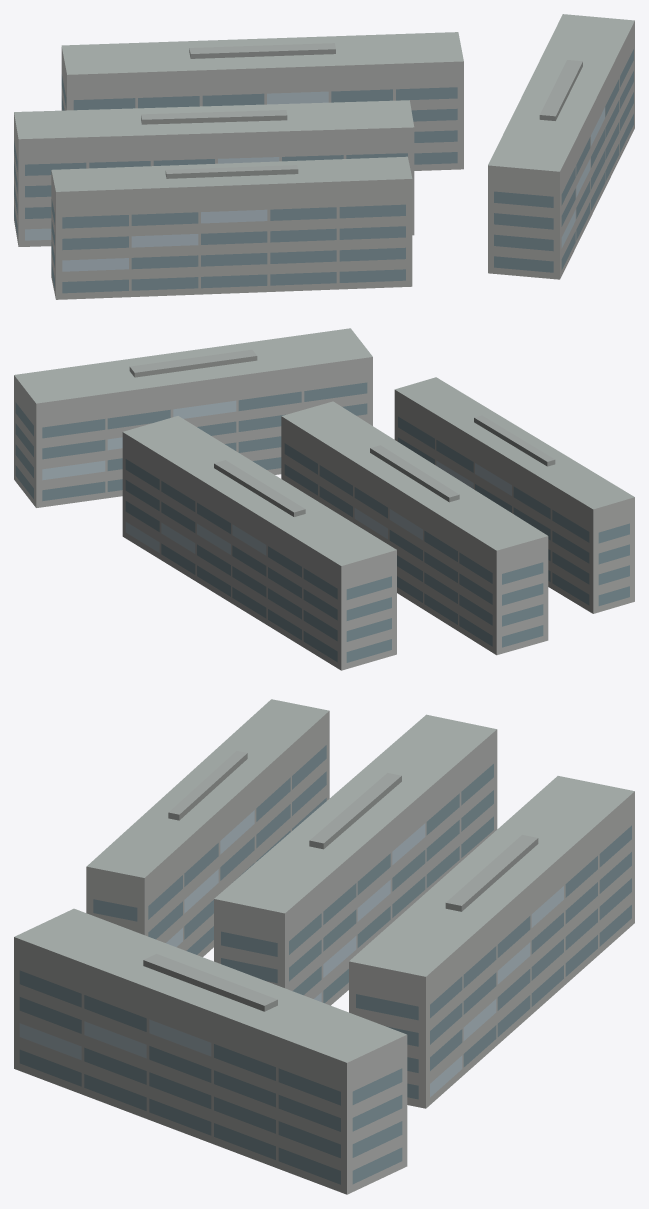
The model's file is apt-a12177802.glb.
3 renders of one model, top to bottom at view 1: azimuth 30°, elevation 25°; view 2: azimuth 150°, elevation 25°; view 3: azimuth 270°, elevation 25°, orthographic. The views are drawn at different scales.
Visible parts, largest first — view 1: apt-a12177802; view 2: apt-a12177802; view 3: apt-a12177802.
Part boxes in pixels (x1,y1,x2,y2): apt-a12177802: (14, 14, 634, 299); apt-a12177802: (14, 328, 634, 670); apt-a12177802: (14, 699, 634, 1194).
Bounding box in the file's own units: 90.21 × 15.94 × 65.08.
